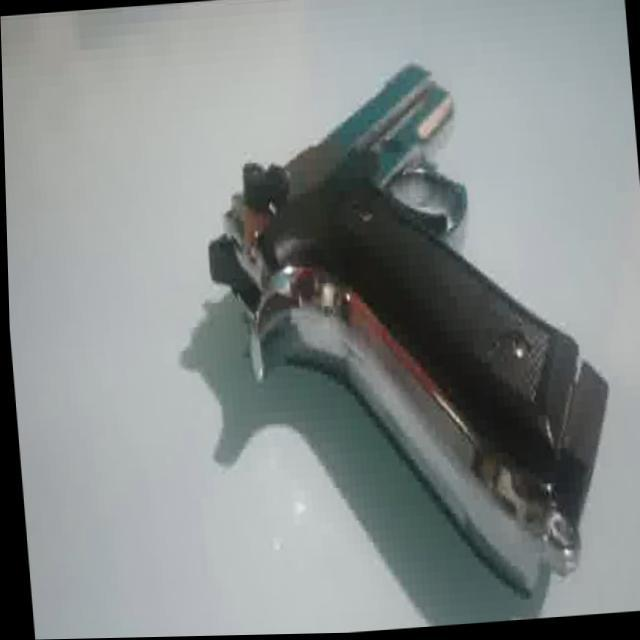weapon: (193, 50, 622, 620)
